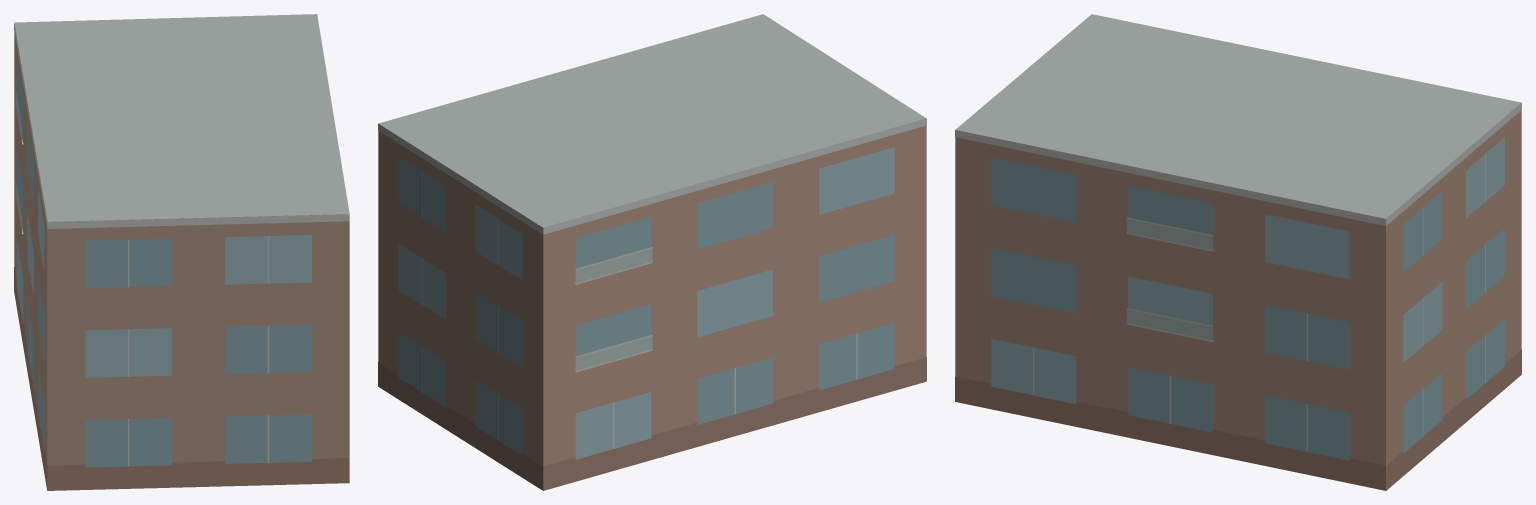
The model's file is survey-upis-32697218.glb.
The picture shows the model from 3 angles, left to right: view 1: azimuth 30°, elevation 25°; view 2: azimuth 150°, elevation 25°; view 3: azimuth 270°, elevation 25°; orthographic projection. The views are drawn at different scales.
Visible parts, largest first — view 1: survey-upis-32697218.tmp; view 2: survey-upis-32697218.tmp; view 3: survey-upis-32697218.tmp.
Part boxes in pixels (left/top/right/bottom): survey-upis-32697218.tmp: left=14, top=14, right=349, bottom=490; survey-upis-32697218.tmp: left=378, top=14, right=926, bottom=490; survey-upis-32697218.tmp: left=955, top=14, right=1521, bottom=490.
Size of the model in its own units: 14.8 by 9.15 by 17.29.
